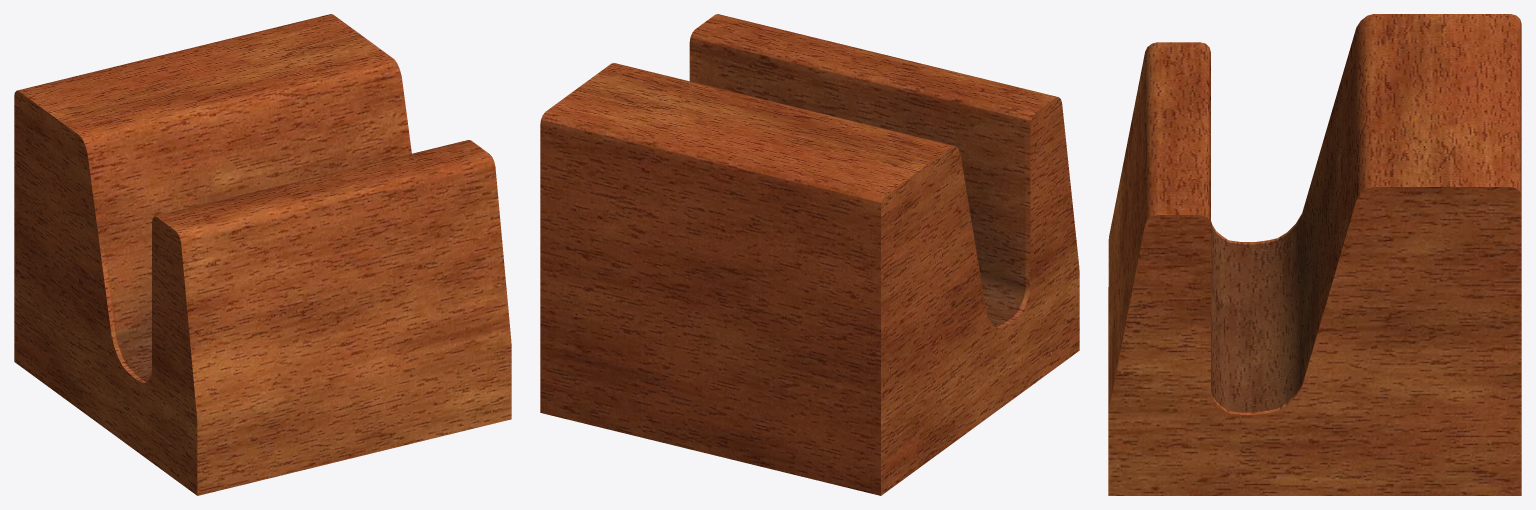
3 renders of one model, left to right at view 1: azimuth 30°, elevation 25°; view 2: azimuth 150°, elevation 25°; view 3: azimuth 270°, elevation 25°, orthographic. The views are drawn at different scales.
Parts seen in each view (by area): view 1: Plane_low; view 2: Plane_low; view 3: Plane_low.
Boxes of the visible parts, x1=… form: Plane_low: x1=14, y1=14, x2=511, y2=495; Plane_low: x1=540, y1=14, x2=1079, y2=495; Plane_low: x1=1108, y1=14, x2=1521, y2=495.
Bounding box in the file's own units: 0.12 × 0.1 × 0.1212.
Materials: 1 (1 with a texture image).
